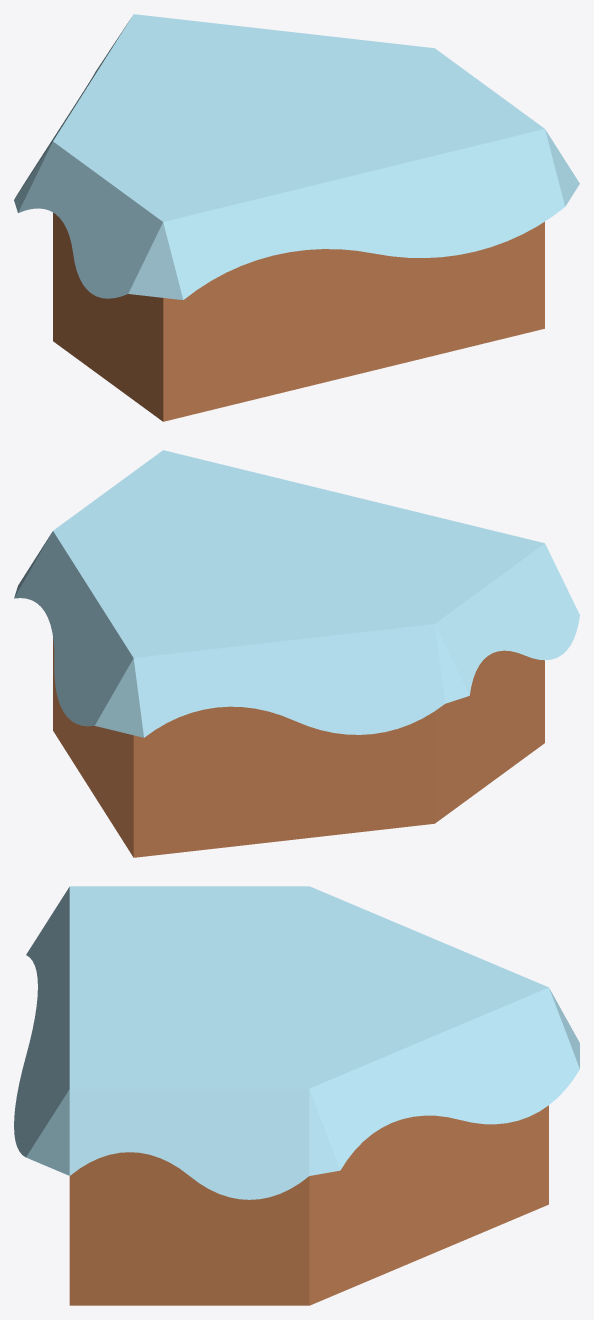
Rendered from blockSnowEnd.glb.
3 views of the same model, one above another, from view 1: azimuth 30°, elevation 25°; view 2: azimuth 150°, elevation 25°; view 3: azimuth 270°, elevation 25° (orthographic). The views are drawn at different scales.
Parts seen in each view (by area): view 1: blockSnowEnd; view 2: blockSnowEnd; view 3: blockSnowEnd.
Part boxes in pixels (<box>): blockSnowEnd: <box>14,14,579,421</box>; blockSnowEnd: <box>14,450,579,857</box>; blockSnowEnd: <box>14,886,579,1305</box>.
Size of the model in its own units: 1.23 by 0.5 by 1.18.
